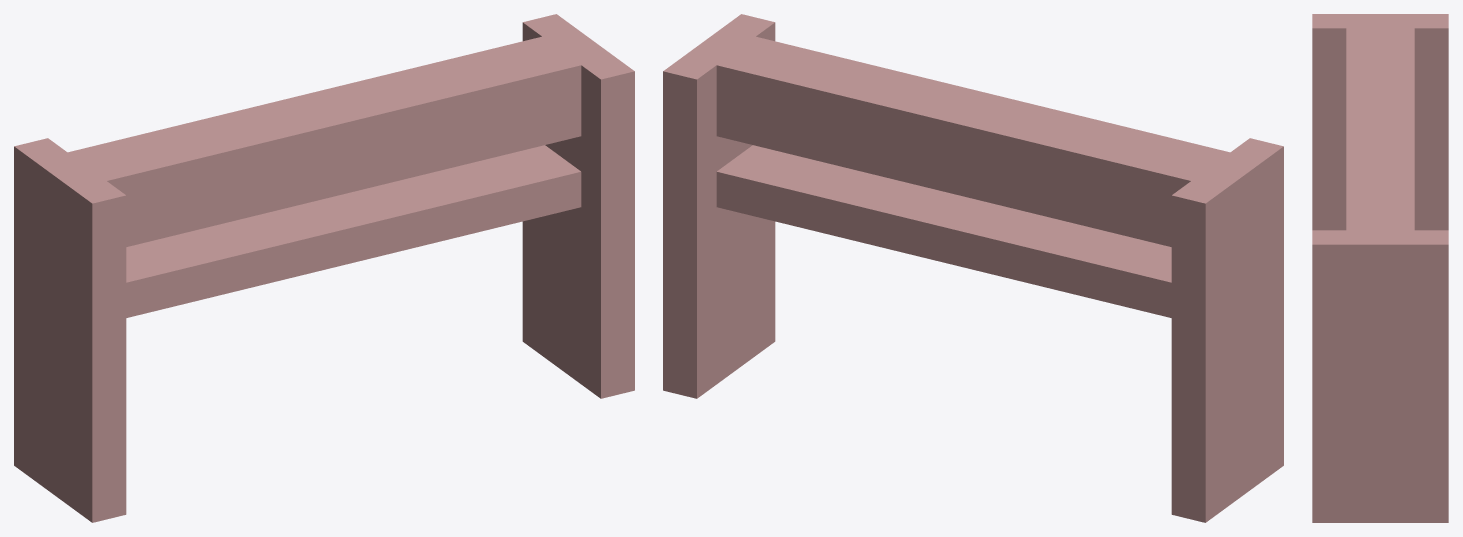
File: fence.obj
3 views of the same model, side by side, from view 1: azimuth 30°, elevation 25°; view 2: azimuth 150°, elevation 25°; view 3: azimuth 270°, elevation 25° (orthographic). The views are drawn at different scales.
Bounding box in the file's own units: 1.6 × 0.9 × 0.4.
1 material, 1 textured.
